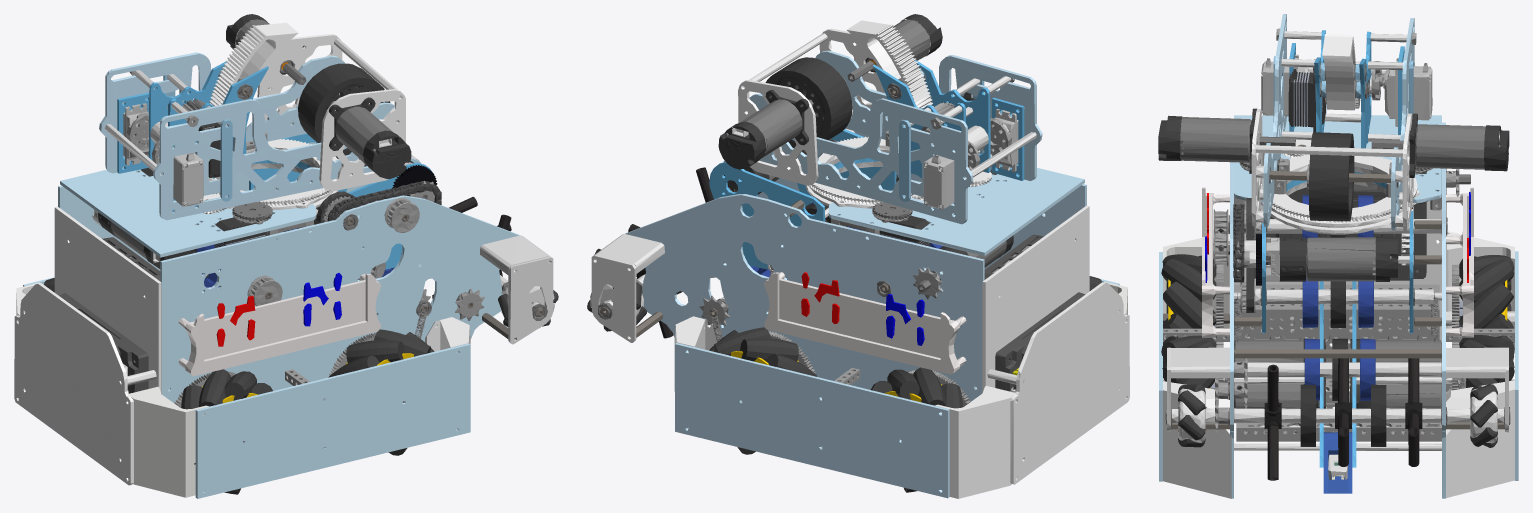
File: mechatronics.glb
The picture shows the model from 3 angles, left to right: view 1: azimuth 30°, elevation 25°; view 2: azimuth 150°, elevation 25°; view 3: azimuth 270°, elevation 25°; orthographic projection. The views are drawn at different scales.
Parts seen in each view (by area): view 1: body, turret, flywheel, wheel_fr, wheel_br, intake_front; view 2: body, turret, flywheel, wheel_fl, wheel_bl, intake_front, intake_2; view 3: body, turret, intake_front, intake_3, intake_2, flywheel, wheel_bl, wheel_br, transfer, wheel_fl, wheel_fr.
Part boxes in pixels (x1,y1,x2,y2): body: [14, 133, 553, 498]; turret: [99, 14, 411, 220]; flywheel: [298, 63, 390, 155]; wheel_fr: [328, 329, 434, 455]; wheel_br: [174, 369, 272, 494]; intake_front: [432, 197, 558, 327]; body: [591, 128, 1129, 498]; turret: [718, 14, 1042, 224]; flywheel: [765, 57, 852, 150]; wheel_fl: [709, 327, 816, 454]; wheel_bl: [870, 367, 970, 492]; intake_front: [587, 167, 713, 338]; intake_2: [699, 265, 786, 328]; body: [1159, 115, 1518, 498]; turret: [1158, 14, 1509, 230]; intake_front: [1165, 358, 1510, 480]; intake_3: [1240, 277, 1433, 327]; intake_2: [1228, 338, 1460, 400]; flywheel: [1269, 132, 1398, 221]; wheel_bl: [1446, 255, 1514, 363]; wheel_br: [1161, 254, 1229, 362]; transfer: [1228, 195, 1447, 241]; wheel_fl: [1446, 335, 1514, 392]; wheel_fr: [1161, 335, 1223, 388].
Bounding box in the file's own units: 0.4288 × 0.3549 × 0.2933.
